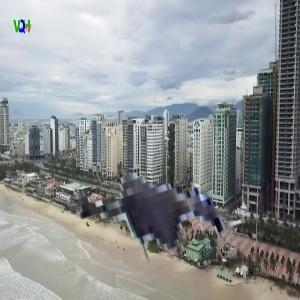drone: (28, 72, 256, 300)
